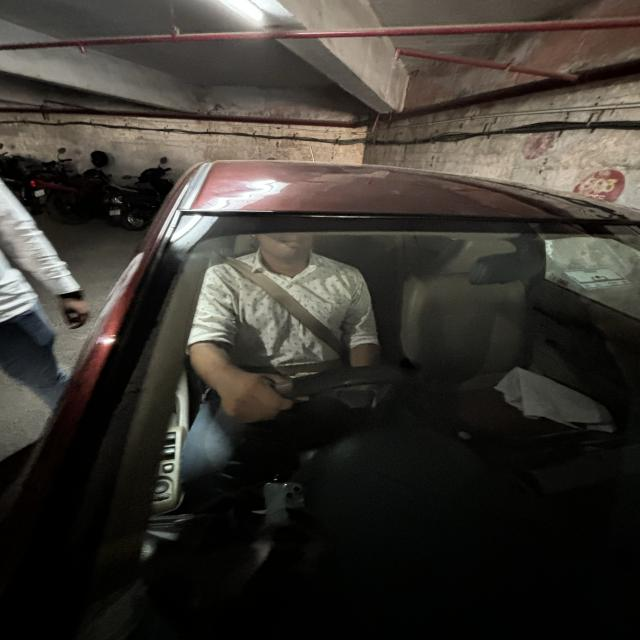seatbelt: (204, 245, 357, 379)
